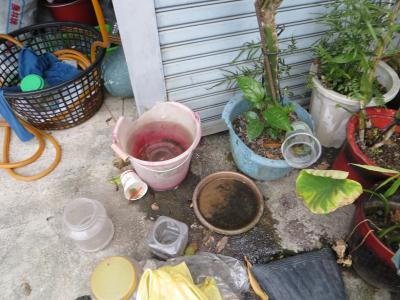bottle: (60, 194, 117, 258), (279, 118, 324, 170), (143, 214, 190, 261), (118, 170, 148, 203)
bucket: (113, 100, 203, 192)
plastic_bag: (136, 254, 247, 300)
plate: (191, 169, 268, 238), (87, 255, 141, 299)
